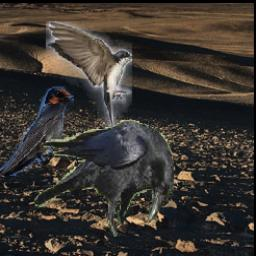Crow: (34, 121, 174, 238)
Swallow: (47, 22, 133, 133), (0, 86, 75, 176)
